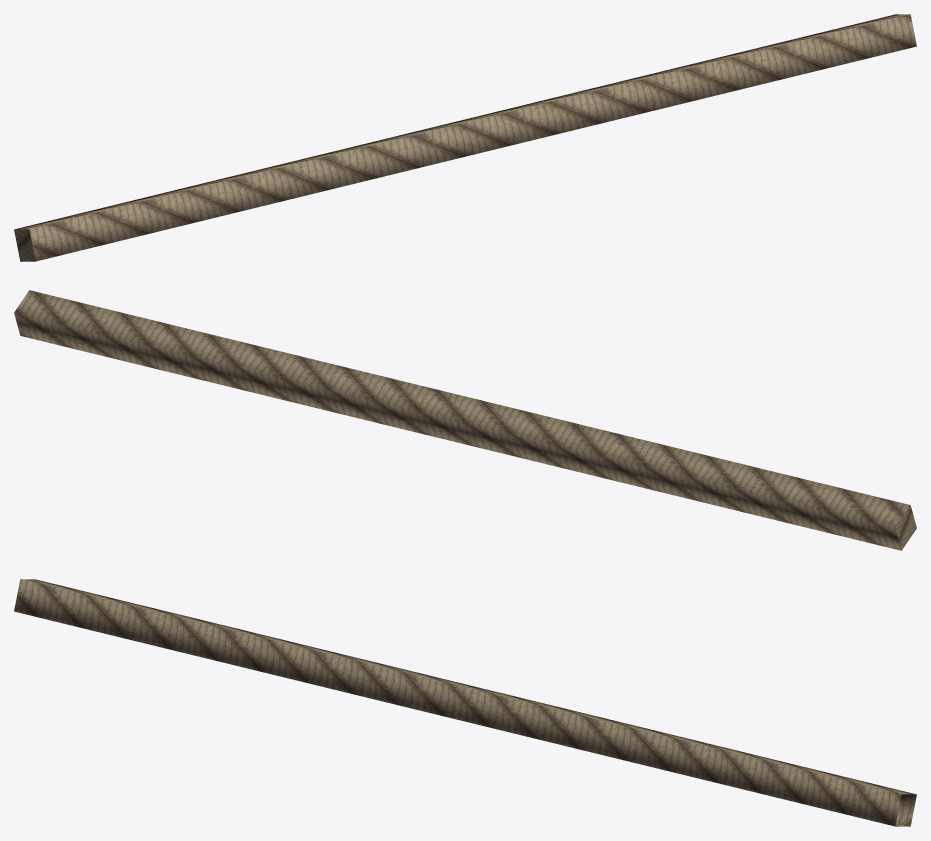
Rendered from sm_RopeTile_01_02.fbx.
The picture shows the model from 3 angles, top to bottom: view 1: azimuth 30°, elevation 25°; view 2: azimuth 150°, elevation 25°; view 3: azimuth 330°, elevation 25°; orthographic projection.
Visible parts, largest first — view 1: sm_RopeTile_01_02_LOD0; view 2: sm_RopeTile_01_02_LOD0; view 3: sm_RopeTile_01_02_LOD0.
Boxes of the visible parts, box(x1,y1,x2,y2) form: sm_RopeTile_01_02_LOD0: box(14, 14, 916, 261); sm_RopeTile_01_02_LOD0: box(14, 290, 916, 550); sm_RopeTile_01_02_LOD0: box(14, 579, 916, 826).
Bounding box in the file's own units: 100 × 4.26 × 4.26.
